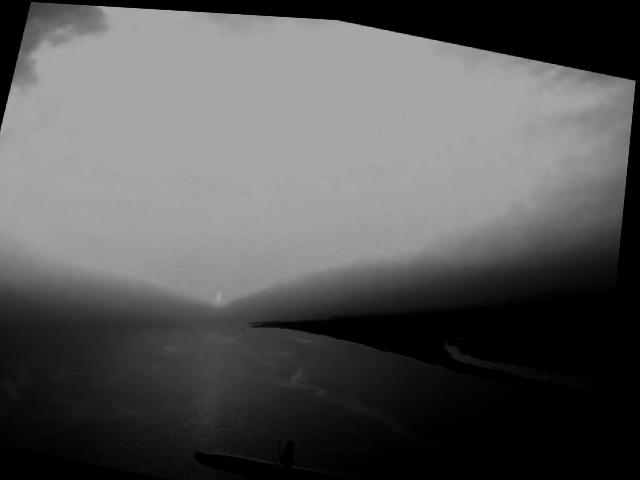hedef: (191, 405, 404, 480)
